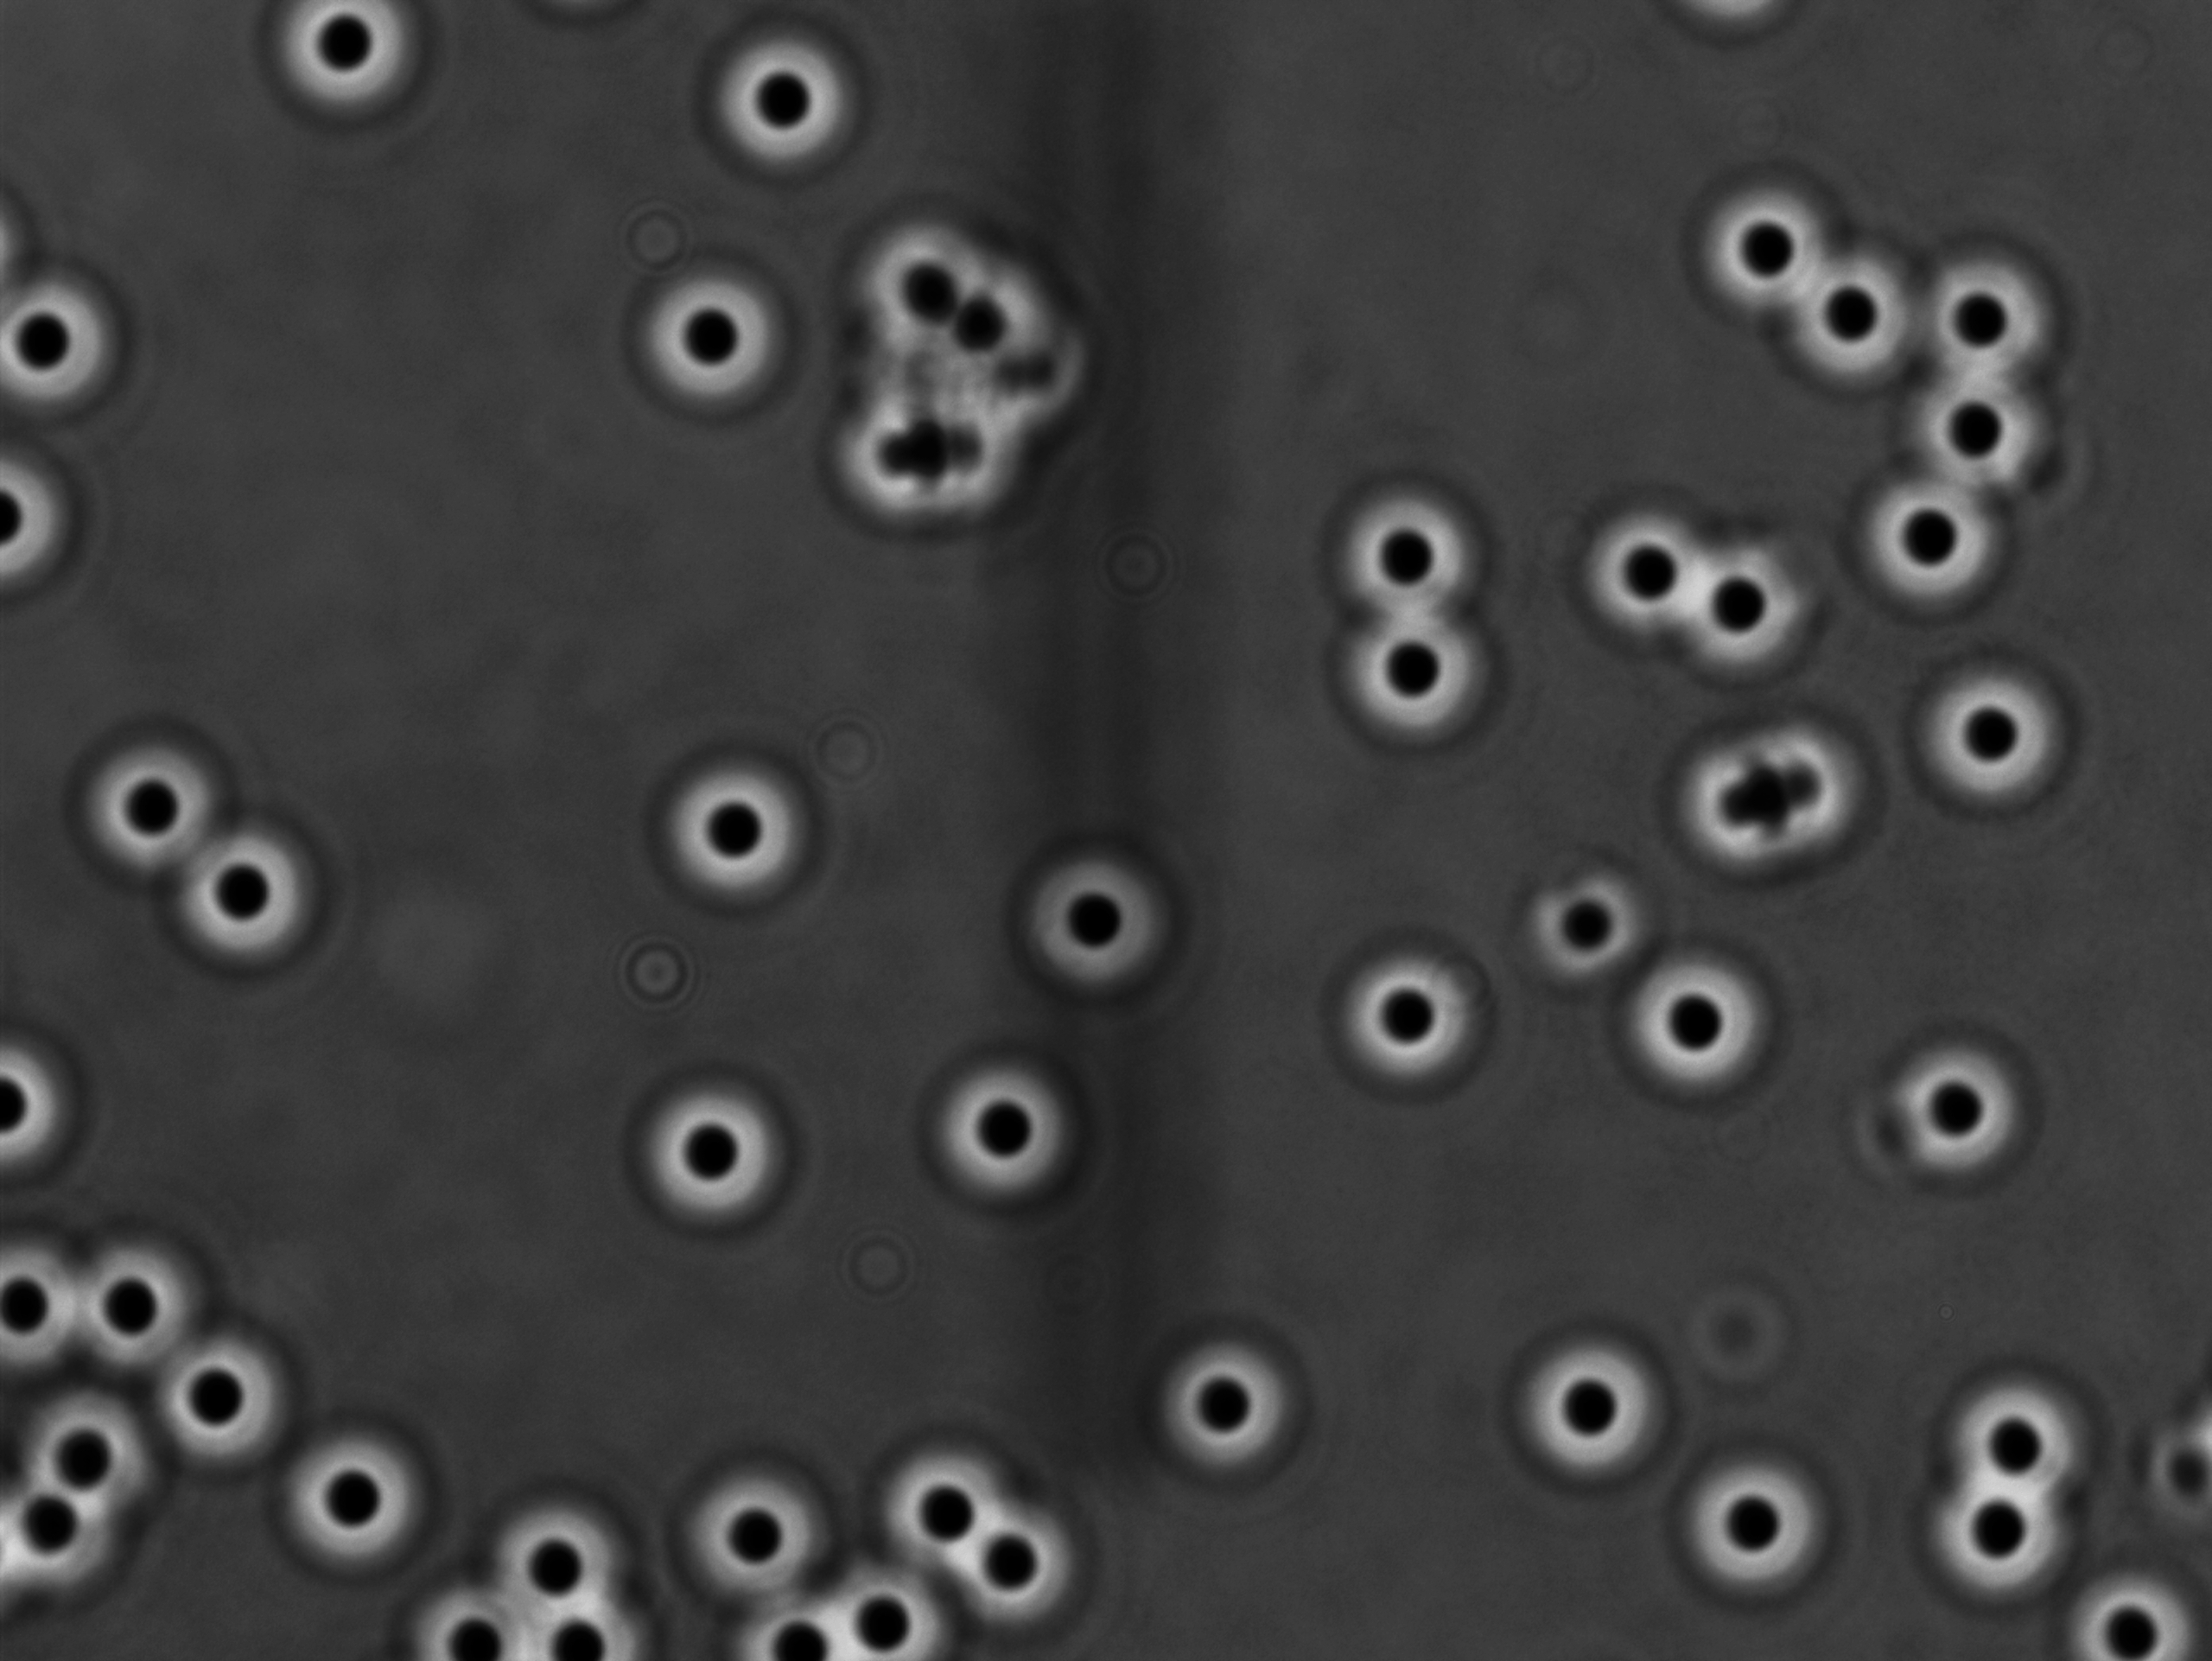depth:-60: (1853, 1015, 2045, 1204), (1308, 925, 1495, 1101), (1610, 932, 1793, 1104), (619, 1070, 801, 1241), (1840, 454, 2011, 635), (921, 1047, 1094, 1225), (1003, 836, 1179, 1008), (1499, 1319, 1676, 1490), (1324, 579, 1500, 750), (673, 5, 844, 180), (647, 731, 816, 907), (1910, 642, 2085, 811), (1319, 454, 1493, 621), (626, 249, 792, 424), (1136, 1324, 1310, 1488), (173, 803, 344, 968), (1664, 1439, 1830, 1610), (872, 1420, 1047, 1581), (1910, 211, 2085, 370), (1903, 345, 2071, 509), (1680, 166, 1849, 325), (272, 1417, 436, 1574), (1565, 476, 1717, 644), (47, 1225, 208, 1382), (79, 733, 242, 883), (947, 1490, 1106, 1644), (145, 1316, 304, 1466), (1664, 537, 1823, 687), (1772, 249, 1926, 403)
